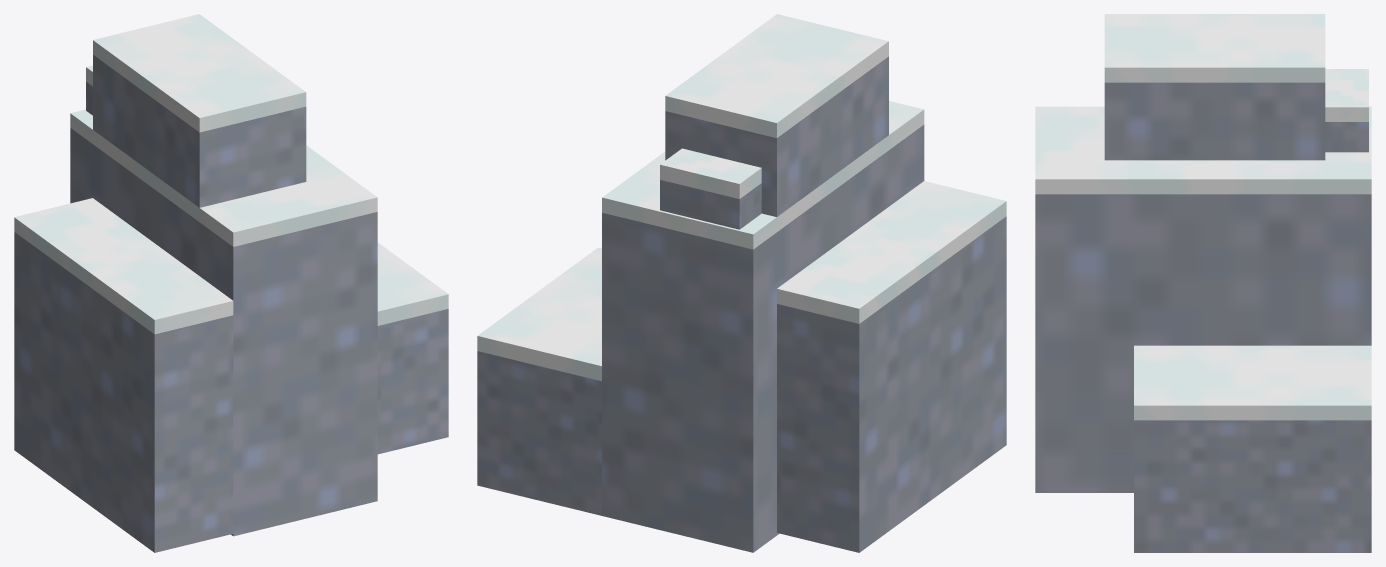
Rendered from Stone01.fbx.
The picture shows the model from 3 angles, left to right: view 1: azimuth 30°, elevation 25°; view 2: azimuth 150°, elevation 25°; view 3: azimuth 270°, elevation 25°; orthographic projection. The views are drawn at different scales.
Visible parts, largest first — view 1: Stone; view 2: Stone; view 3: Stone.
Boxes of the visible parts, box(x1,y1,x2,y2) form: Stone: box(14, 14, 448, 552); Stone: box(477, 14, 1006, 552); Stone: box(1035, 14, 1371, 552).
Size of the model in its own units: 26.77 by 29.44 by 22.11.
